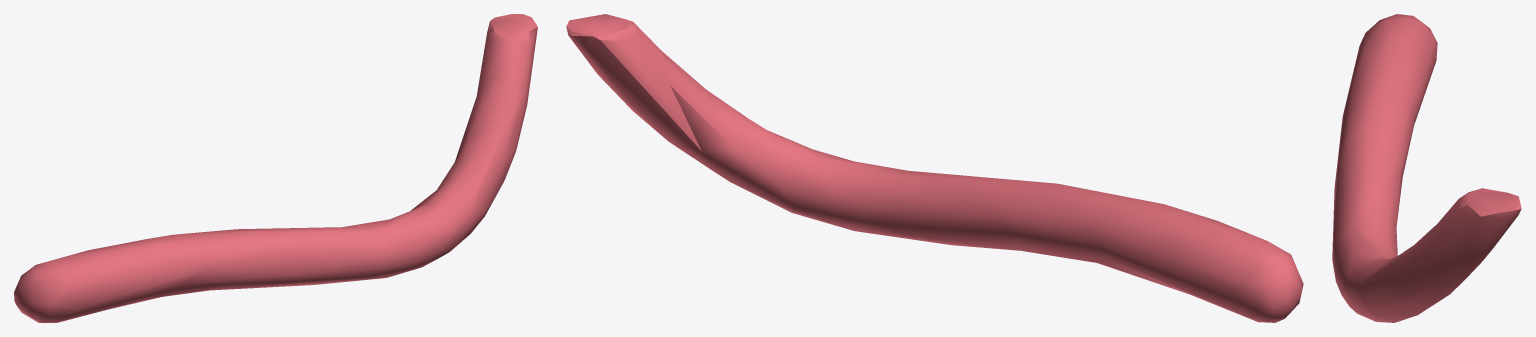
Rendered from fma81009_fj2257.glb.
3 views of the same model, side by side, from view 1: azimuth 30°, elevation 25°; view 2: azimuth 150°, elevation 25°; view 3: azimuth 270°, elevation 25° (orthographic). The views are drawn at different scales.
Parts seen in each view (by area): view 1: FMA81009_FJ2257; view 2: FMA81009_FJ2257; view 3: FMA81009_FJ2257.
Part boxes in pixels (x1,y1,x2,y2): FMA81009_FJ2257: (14, 14, 537, 322); FMA81009_FJ2257: (566, 14, 1303, 322); FMA81009_FJ2257: (1332, 14, 1521, 322).
Size of the model in its own units: 0.0199 by 0.00571 by 0.00505.
